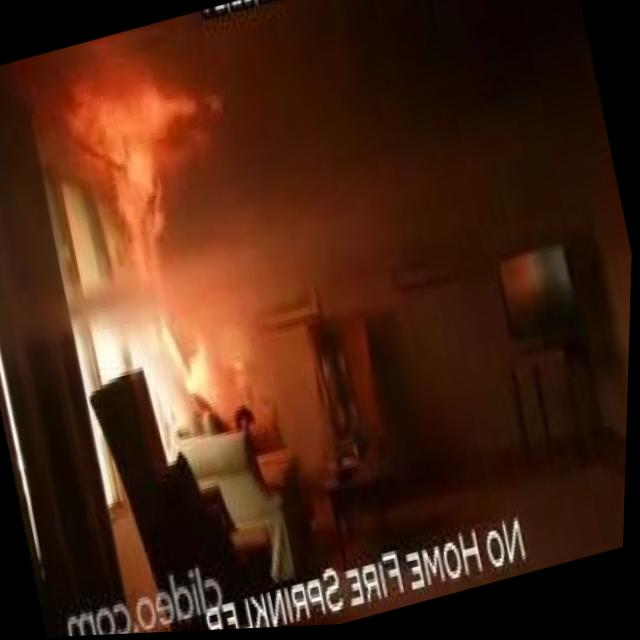fire: (68, 66, 226, 262), (134, 289, 194, 384), (176, 326, 231, 400)
